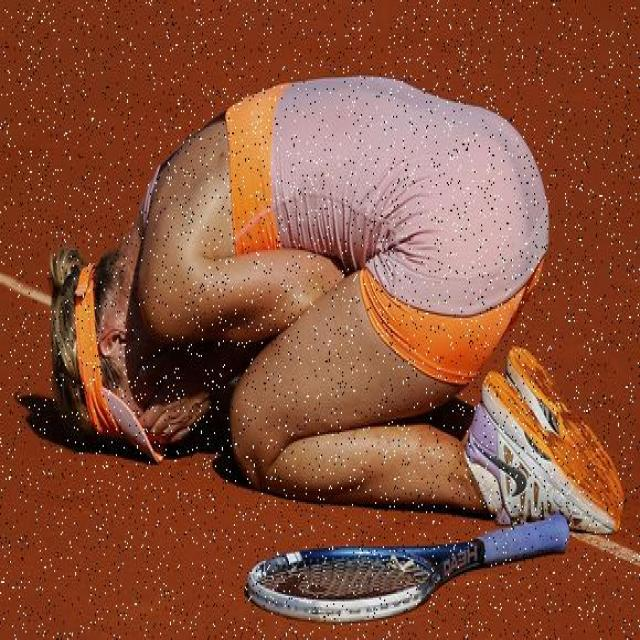fall: (63, 73, 620, 490)
